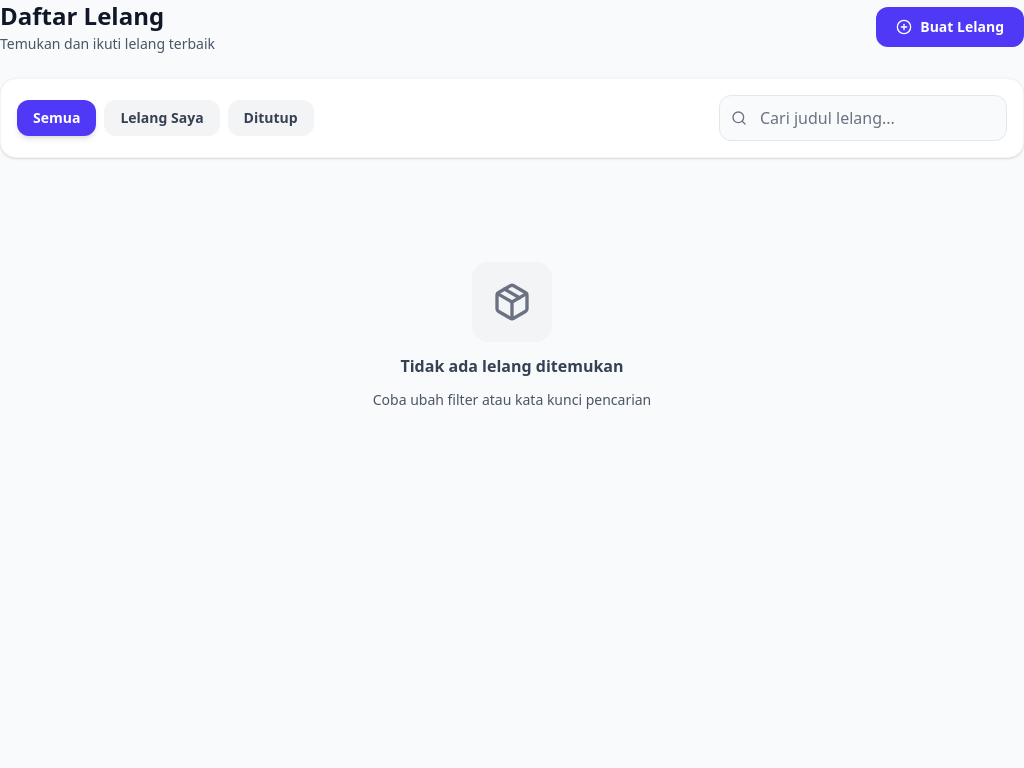
Scenario: HomePage › opens AddModal when Buat Lelang is clicked
The image size is (1024, 768).
Expected: the text "Tambah Lelang Baru" is not shown
Click the button "Buat Lelang" at {"x": 950, "y": 27}, box [876, 7, 1023, 47]
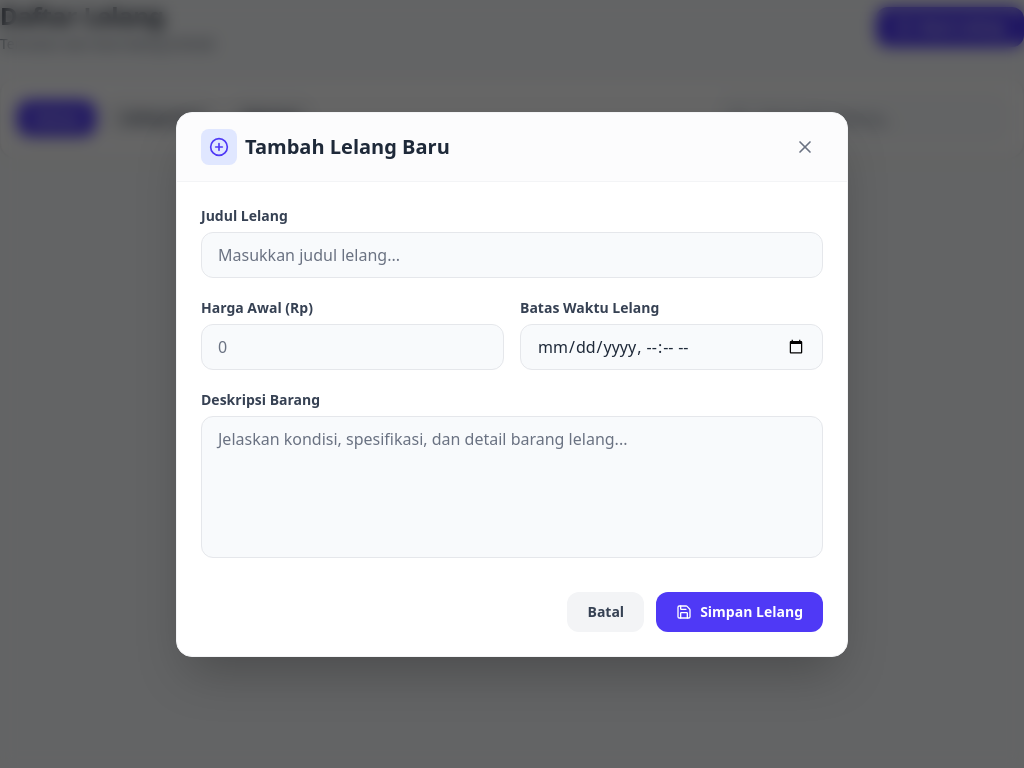
Result: the heading "Tambah Lelang Baru" is shown at [245, 132, 450, 160]
